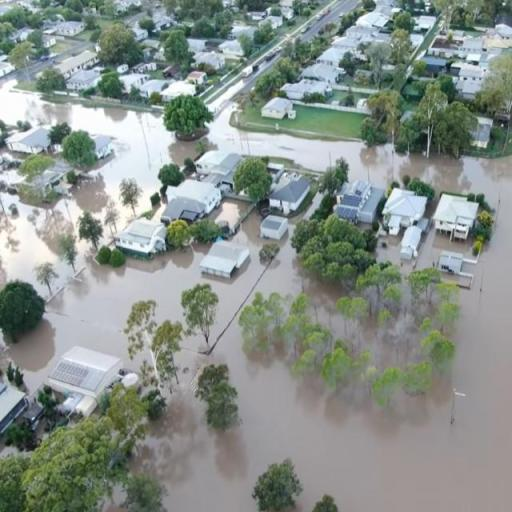flood: (6, 102, 512, 512), (0, 84, 196, 297), (206, 79, 244, 115)
house: (47, 342, 128, 414), (160, 180, 221, 226), (432, 190, 482, 244), (381, 186, 431, 236), (193, 150, 249, 192), (268, 168, 314, 217), (198, 239, 252, 280), (116, 216, 166, 258), (334, 175, 372, 227), (0, 383, 31, 434), (6, 127, 49, 154), (260, 96, 294, 122), (400, 226, 422, 262), (70, 69, 99, 92), (71, 49, 99, 72), (94, 132, 115, 162), (57, 20, 85, 36), (459, 66, 486, 81), (199, 54, 227, 68), (318, 50, 342, 66), (219, 40, 241, 56), (186, 70, 208, 84)
